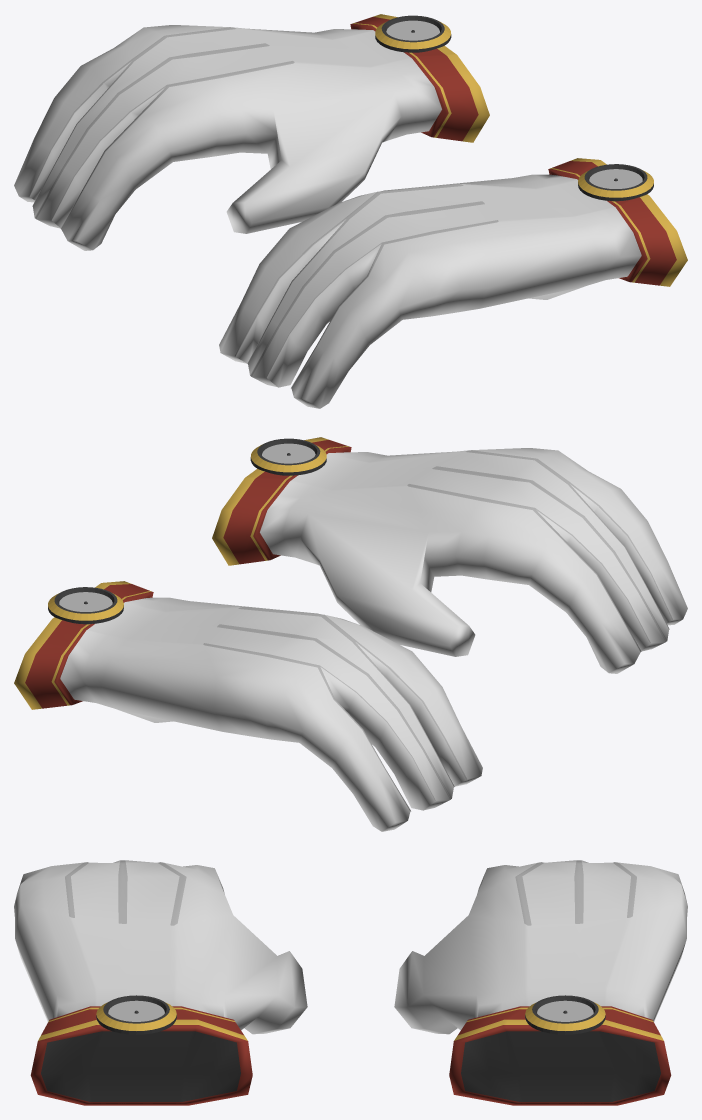
Rendered from elevatorHandsWatch.fbx.
3 views of the same model, one above another, from view 1: azimuth 30°, elevation 25°; view 2: azimuth 150°, elevation 25°; view 3: azimuth 270°, elevation 25° (orthographic). The views are drawn at different scales.
Parts seen in each view (by area): view 1: eHandR, eHandR.001; view 2: eHandR.001, eHandR; view 3: eHandR.001, eHandR.
Part boxes in pixels (x1,y1,x2,y2): eHandR: (14, 14, 489, 250); eHandR.001: (219, 158, 687, 408); eHandR.001: (212, 437, 687, 673); eHandR: (14, 581, 482, 831); eHandR.001: (14, 860, 307, 1105); eHandR: (394, 860, 687, 1105).
Size of the model in its own units: 483 by 159 by 659.
